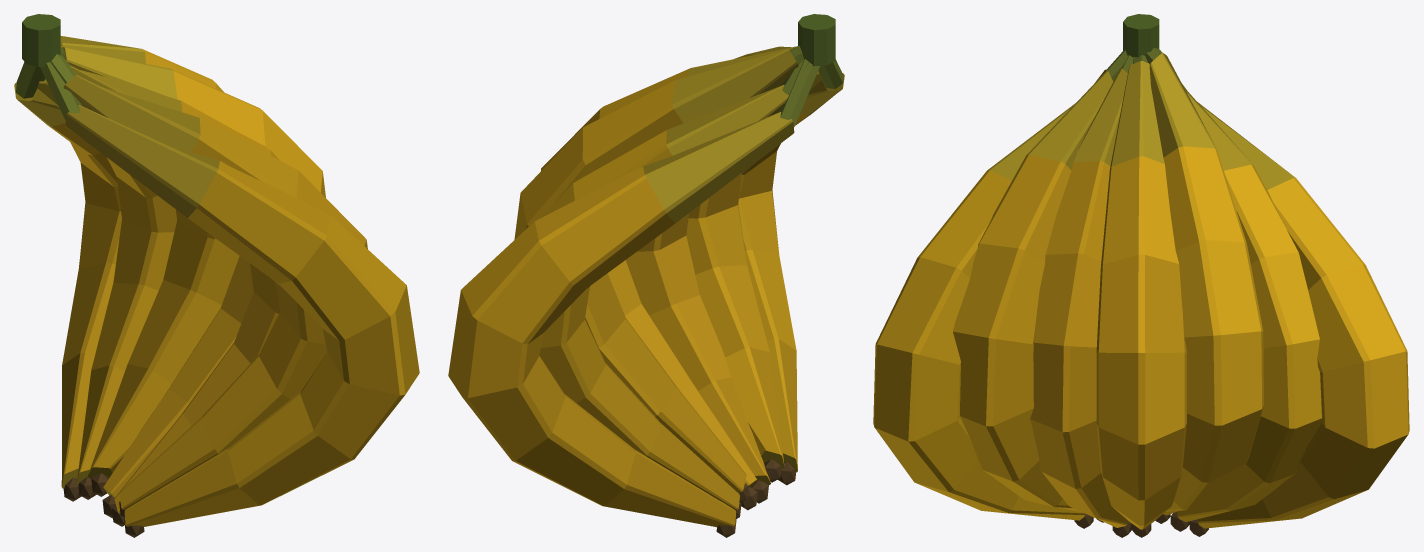
Rendered from bananaB.glb.
3 views of the same model, side by side, from view 1: azimuth 30°, elevation 25°; view 2: azimuth 150°, elevation 25°; view 3: azimuth 270°, elevation 25° (orthographic). The views are drawn at different scales.
Parts seen in each view (by area): view 1: BananaMesh.002; view 2: BananaMesh.002; view 3: BananaMesh.002.
Part boxes in pixels (x1=…): BananaMesh.002: x1=14, y1=14, x2=419, y2=537; BananaMesh.002: x1=448, y1=14, x2=844, y2=537; BananaMesh.002: x1=873, y1=14, x2=1409, y2=537.
Size of the model in its own units: 0.4116 by 0.663 by 0.662.
